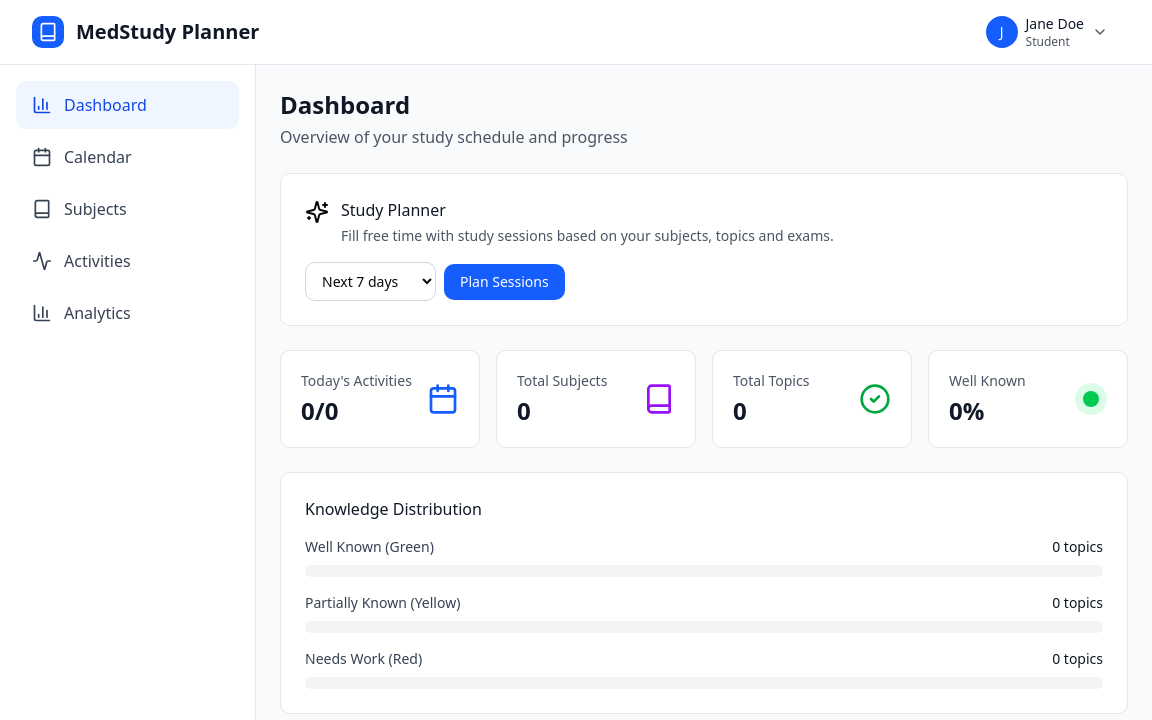
Test case: AnalyticsView (student) › asks to complete activities when nothing is done yet
Expected: the heading "Dashboard" is shown, x1=280 y1=88 x2=410 y2=121
Click the button "Analytics" at [128, 313], box x1=16 y1=289 x2=239 y2=337
(page scrolled)
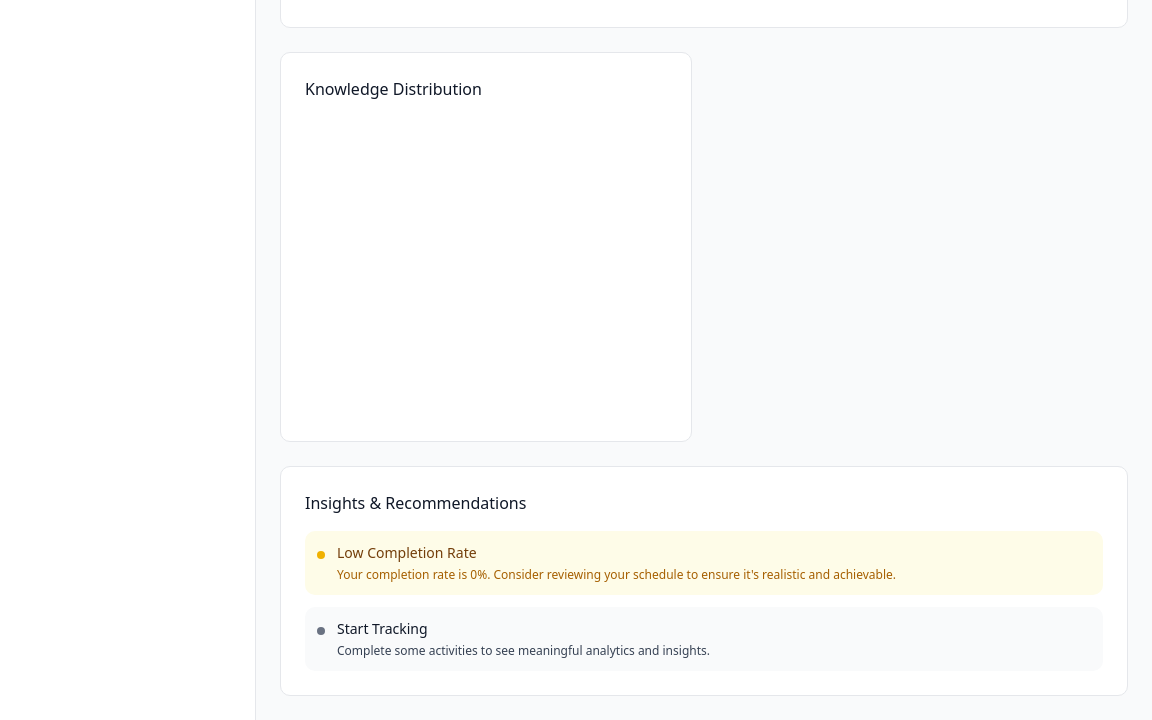
Result: the text "Start Tracking" is shown at x1=337 y1=619 x2=428 y2=638
